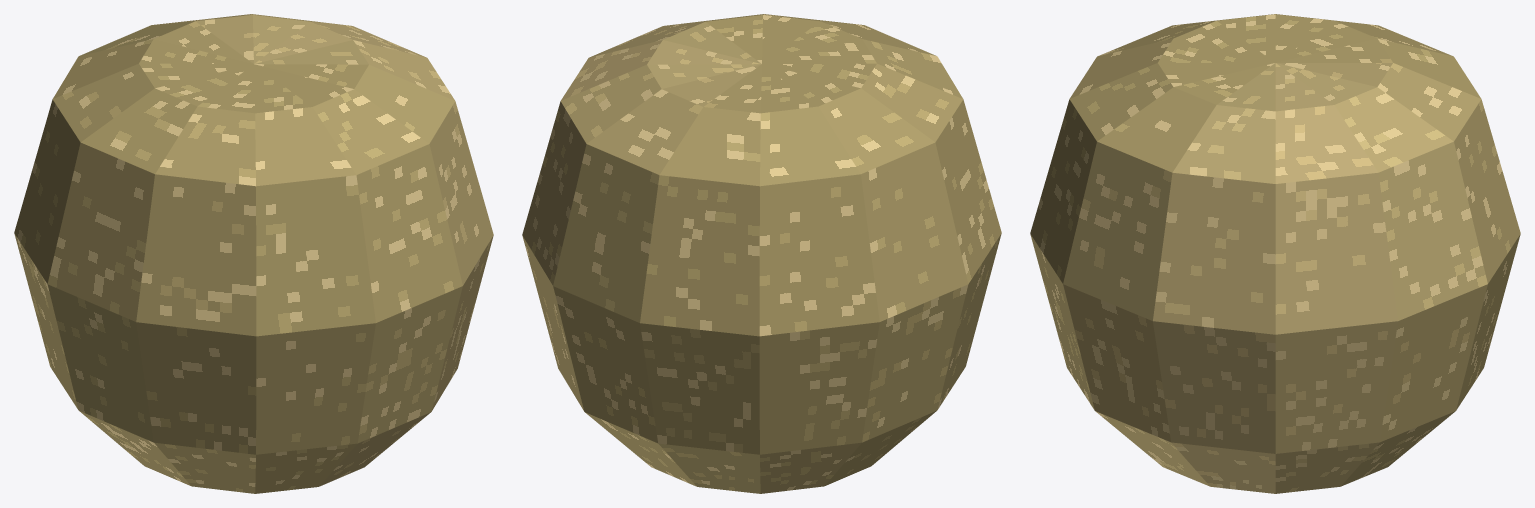
The model's file is melon.glb.
3 views of the same model, side by side, from view 1: azimuth 30°, elevation 25°; view 2: azimuth 150°, elevation 25°; view 3: azimuth 270°, elevation 25° (orthographic).
Visible parts, largest first — view 1: block_melon; view 2: block_melon; view 3: block_melon.
Boxes of the visible parts, x1,y1,x2,y2 form: block_melon: (14,14,493,493); block_melon: (522,14,1001,493); block_melon: (1030,14,1520,493).
Bounding box in the file's own units: 0.1825 × 0.1586 × 0.1868.
Materials: 1 (1 with a texture image).
